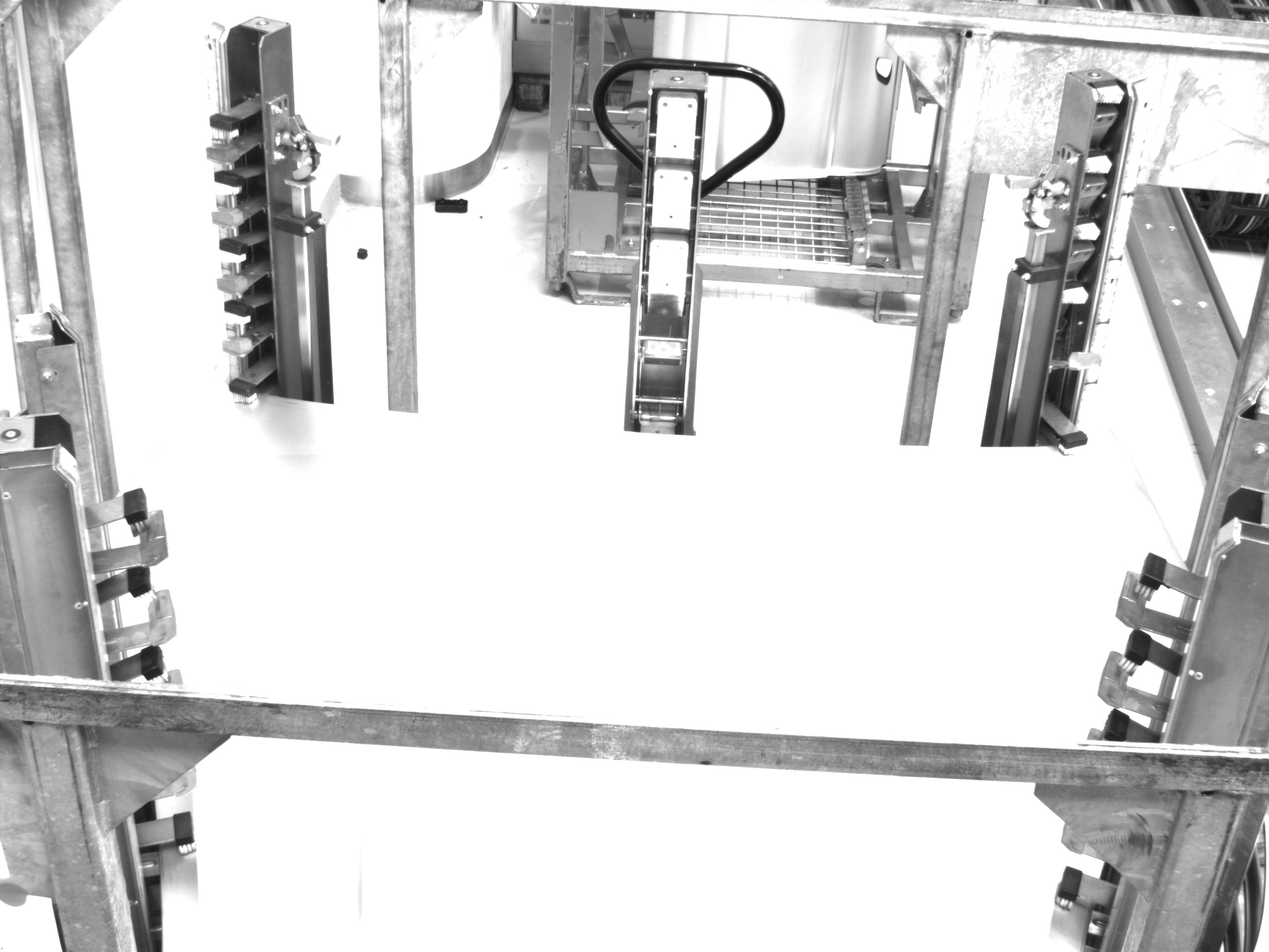wrong_pos: (57, 468, 209, 680), (195, 92, 292, 356), (1111, 521, 1189, 740), (1054, 857, 1113, 944)
